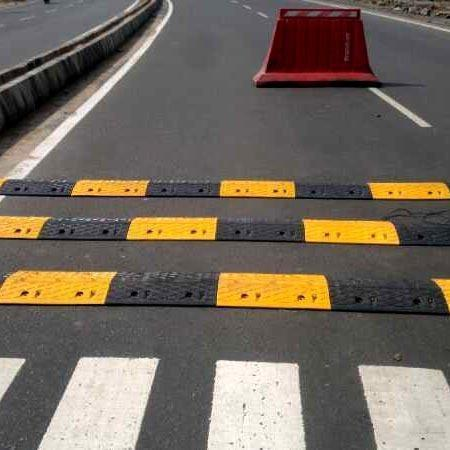speedbreaker: (5, 264, 450, 316), (0, 213, 450, 246), (0, 175, 450, 201)
